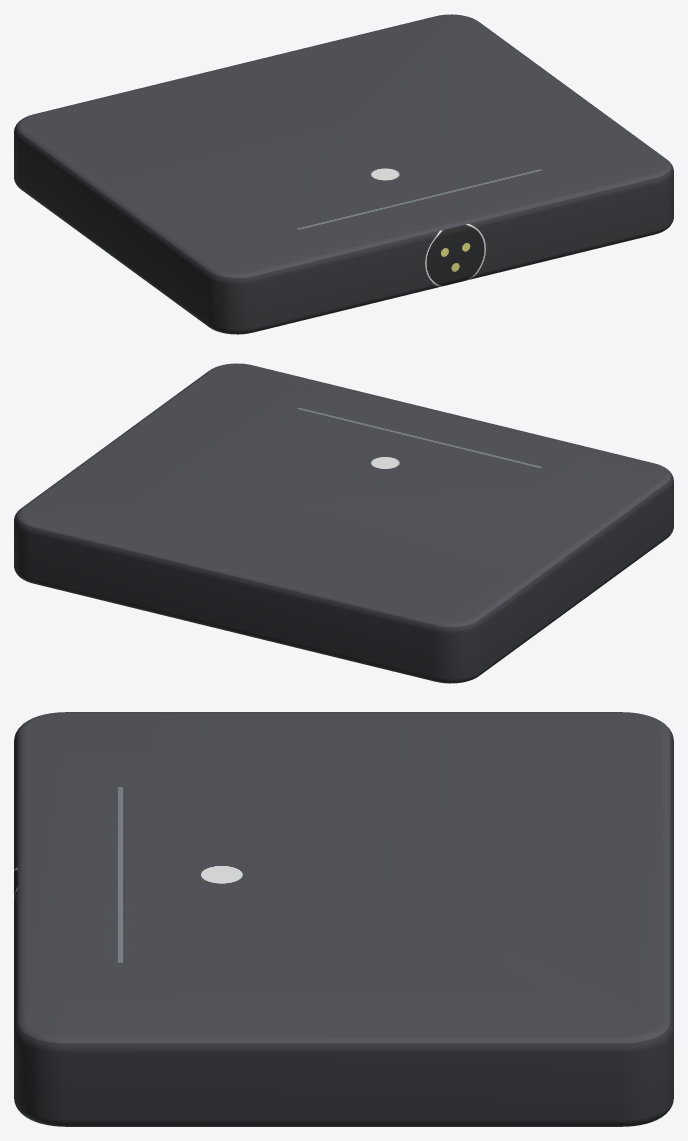
File: crown-pzm-30d.glb
3 renders of one model, top to bottom at view 1: azimuth 30°, elevation 25°; view 2: azimuth 150°, elevation 25°; view 3: azimuth 270°, elevation 25°, orthographic. The views are drawn at different scales.
Parts seen in each view (by area): view 1: crown-pzm-30d-body; view 2: crown-pzm-30d-body; view 3: crown-pzm-30d-body.
Boxes of the visible parts, box(x1,y1,x2,y2) form: crown-pzm-30d-body: box(14, 14, 673, 334); crown-pzm-30d-body: box(14, 363, 673, 683); crown-pzm-30d-body: box(14, 712, 673, 1126).
Size of the model in its own units: 0.152 by 0.019 by 0.127.
1 material, 1 textured.
